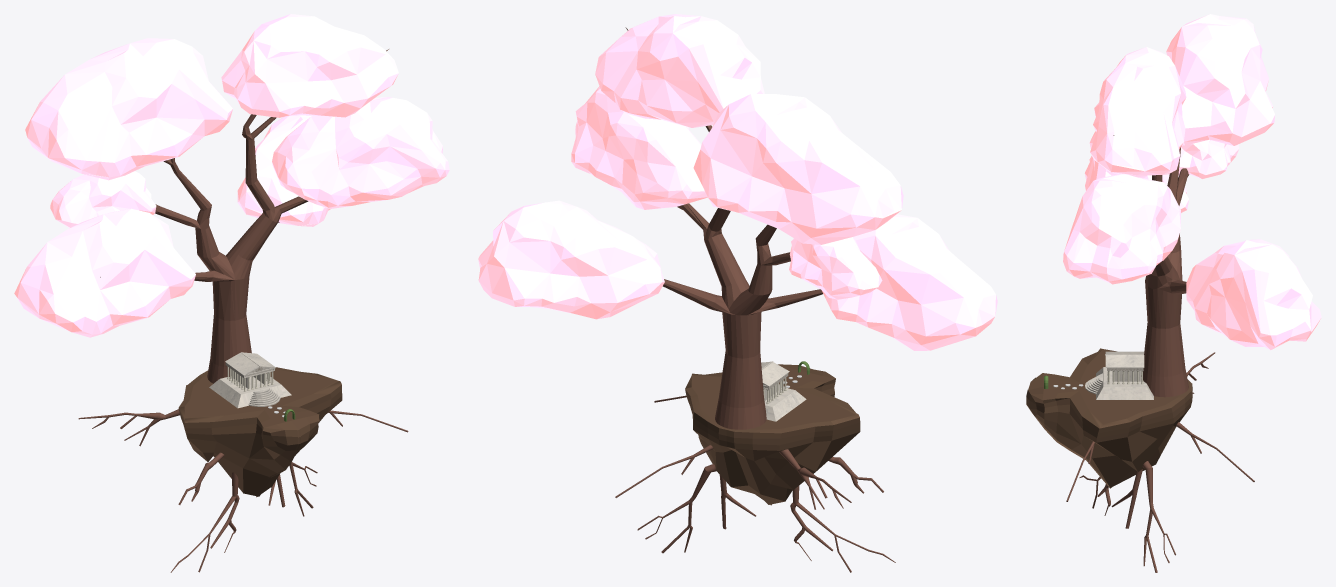
Rendered from island base.fbx.
The picture shows the model from 3 angles, left to right: view 1: azimuth 30°, elevation 25°; view 2: azimuth 150°, elevation 25°; view 3: azimuth 270°, elevation 25°; orthographic projection. The views are drawn at different scales.
Parts seen in each view (by area): view 1: leaf-2, leaf-1, leaf-3, leaf-5, Tikei, root.001, leaf-6, leaf-4, Temple2, 실린더.008, 실린더.002, 실린더.001; view 2: leaf-2, leaf-4, leaf-5, leaf-1, Tikei, root.001, leaf-3, leaf-6, Temple2, 실린더.008, 실린더.001, 실린더.002; view 3: Tikei, leaf-4, leaf-2, leaf-3, leaf-5, root.001, Temple2, leaf-6, 실린더.001, leaf-1.
Part boxes in pixels (left/top/right/bottom): leaf-2: left=25, top=38, right=232, bottom=180; leaf-1: left=14, top=208, right=195, bottom=337; leaf-3: left=272, top=97, right=449, bottom=208; leaf-5: left=221, top=14, right=398, bottom=117; Tikei: left=178, top=367, right=342, bottom=497; root.001: left=100, top=49, right=388, bottom=383; leaf-6: left=50, top=171, right=156, bottom=227; leaf-4: left=237, top=115, right=330, bottom=226; Temple2: left=209, top=352, right=291, bottom=408; 실린더.008: left=170, top=452, right=239, bottom=572; 실린더.002: left=78, top=409, right=179, bottom=446; 실린더.001: left=268, top=462, right=317, bottom=516; leaf-2: left=693, top=94, right=903, bottom=244; leaf-4: left=478, top=200, right=664, bottom=319; leaf-5: left=595, top=14, right=764, bottom=127; leaf-1: left=822, top=214, right=997, bottom=350; Tikei: left=685, top=364, right=860, bottom=505; root.001: left=625, top=27, right=822, bottom=429; leaf-3: left=571, top=86, right=707, bottom=209; leaf-6: left=789, top=237, right=882, bottom=299; Temple2: left=761, top=361, right=806, bottom=421; 실린더.008: left=790, top=457, right=895, bottom=572; 실린더.001: left=637, top=464, right=756, bottom=553; 실린더.002: left=779, top=449, right=851, bottom=509; Tikei: left=1026, top=348, right=1192, bottom=488; leaf-4: left=1186, top=239, right=1321, bottom=350; leaf-2: left=1166, top=14, right=1275, bottom=145; leaf-3: left=1063, top=174, right=1180, bottom=284; leaf-5: left=1090, top=47, right=1186, bottom=175; root.001: left=1113, top=135, right=1188, bottom=397; Temple2: left=1085, top=351, right=1153, bottom=399; leaf-6: left=1178, top=139, right=1239, bottom=178; 실린더.001: left=1111, top=461, right=1175, bottom=572; leaf-1: left=1084, top=131, right=1189, bottom=212.
Bounding box in the file's own units: 14214 × 16762 × 8769.
